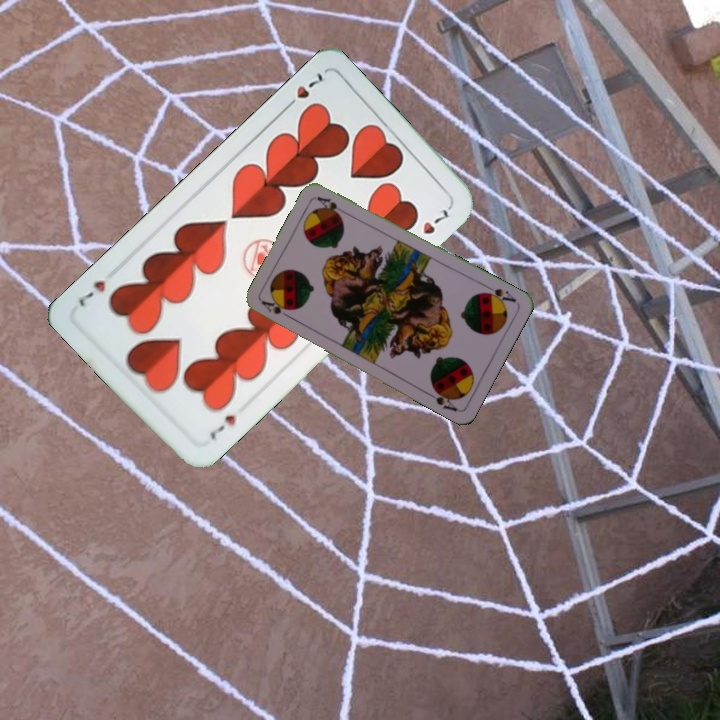H7: (280, 69, 326, 113), (205, 411, 239, 442)
SA: (479, 281, 519, 307), (258, 297, 296, 322)
